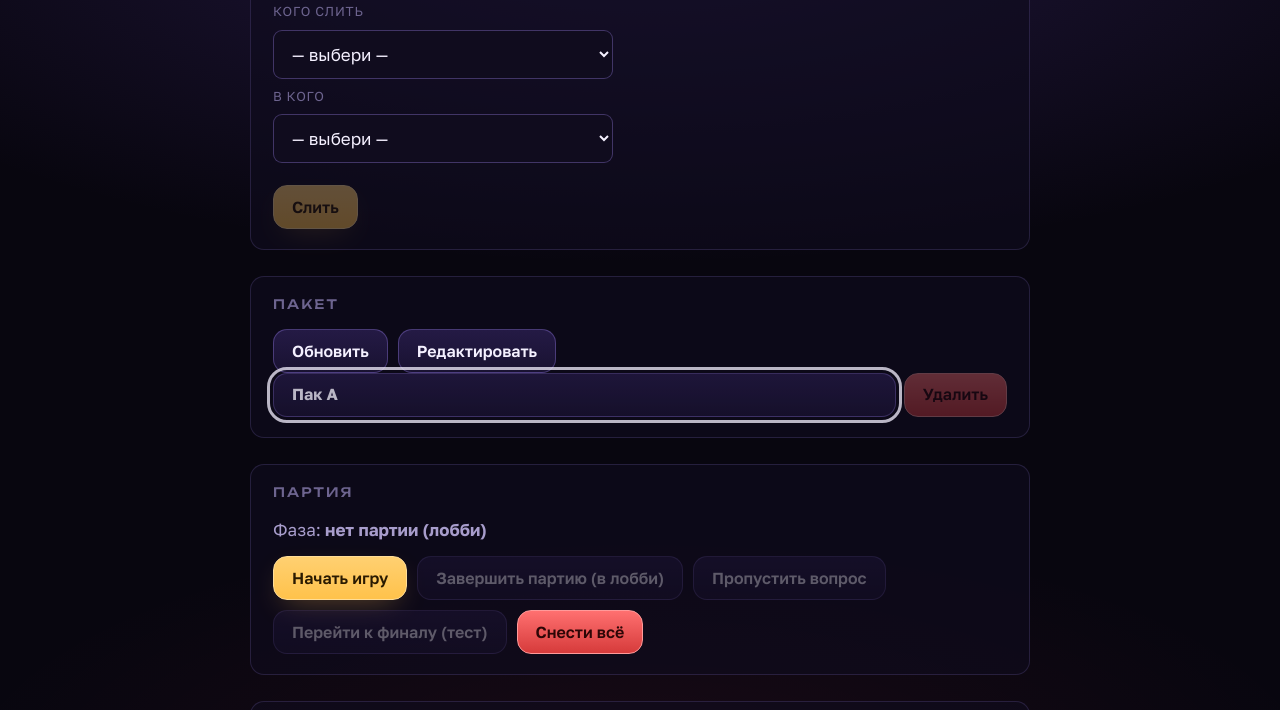
Test: Admin — список и жалобы › shows the list view by default, with a "Пожаловаться" button per question
(page scrolled)
Click the button "Редактировать" at (477, 351), box [398, 329, 556, 373]
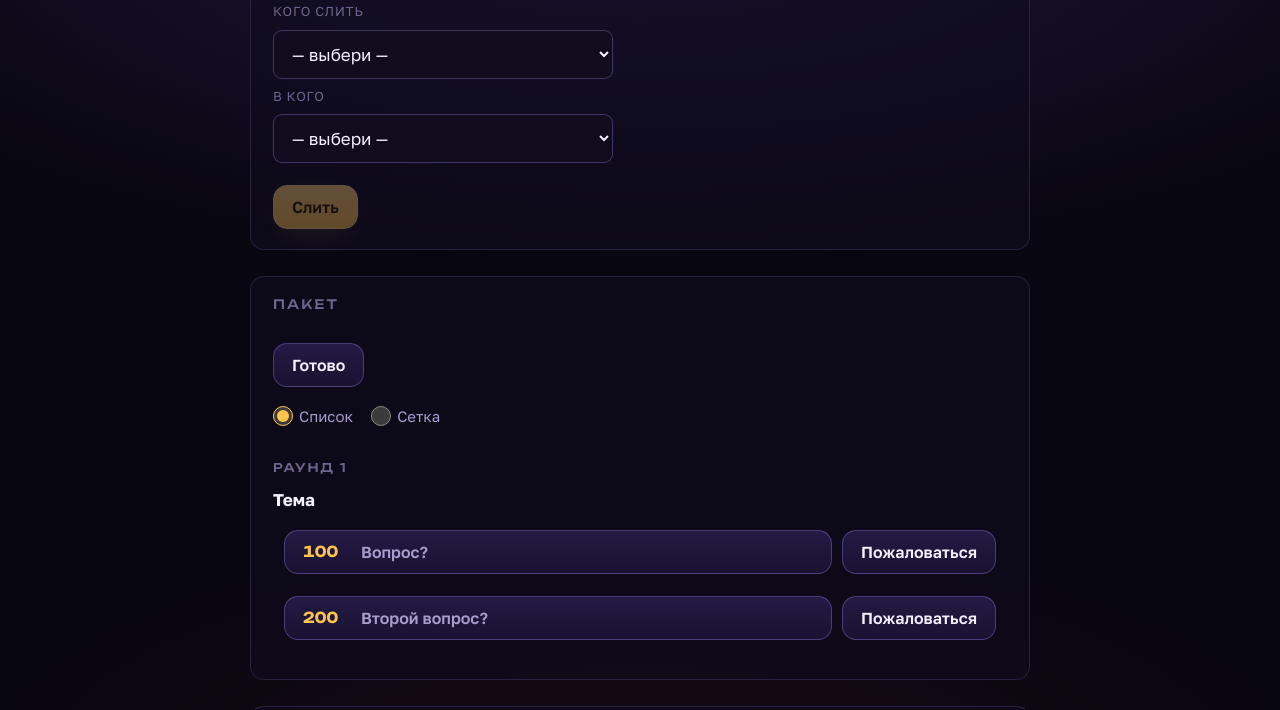
expect the text "Вопрос?" is shown: met, box [361, 542, 428, 562]
expect the number of buttons "Пожаловаться" is 2: met, box [842, 530, 996, 574]; [842, 596, 996, 640]
